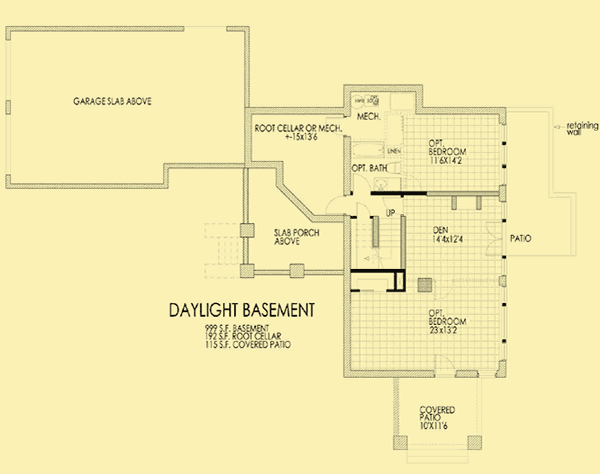door: (484, 219, 506, 257), (430, 351, 458, 379), (322, 115, 349, 138), (322, 194, 350, 216), (352, 171, 373, 196), (381, 195, 405, 216), (354, 200, 373, 223)
stairs: (350, 216, 407, 273)
tub: (350, 140, 388, 160)
